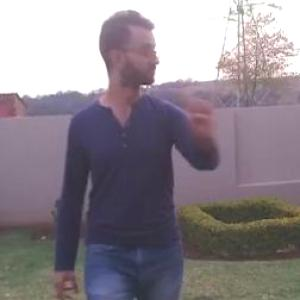takeoff-hand: (179, 75, 220, 137)
